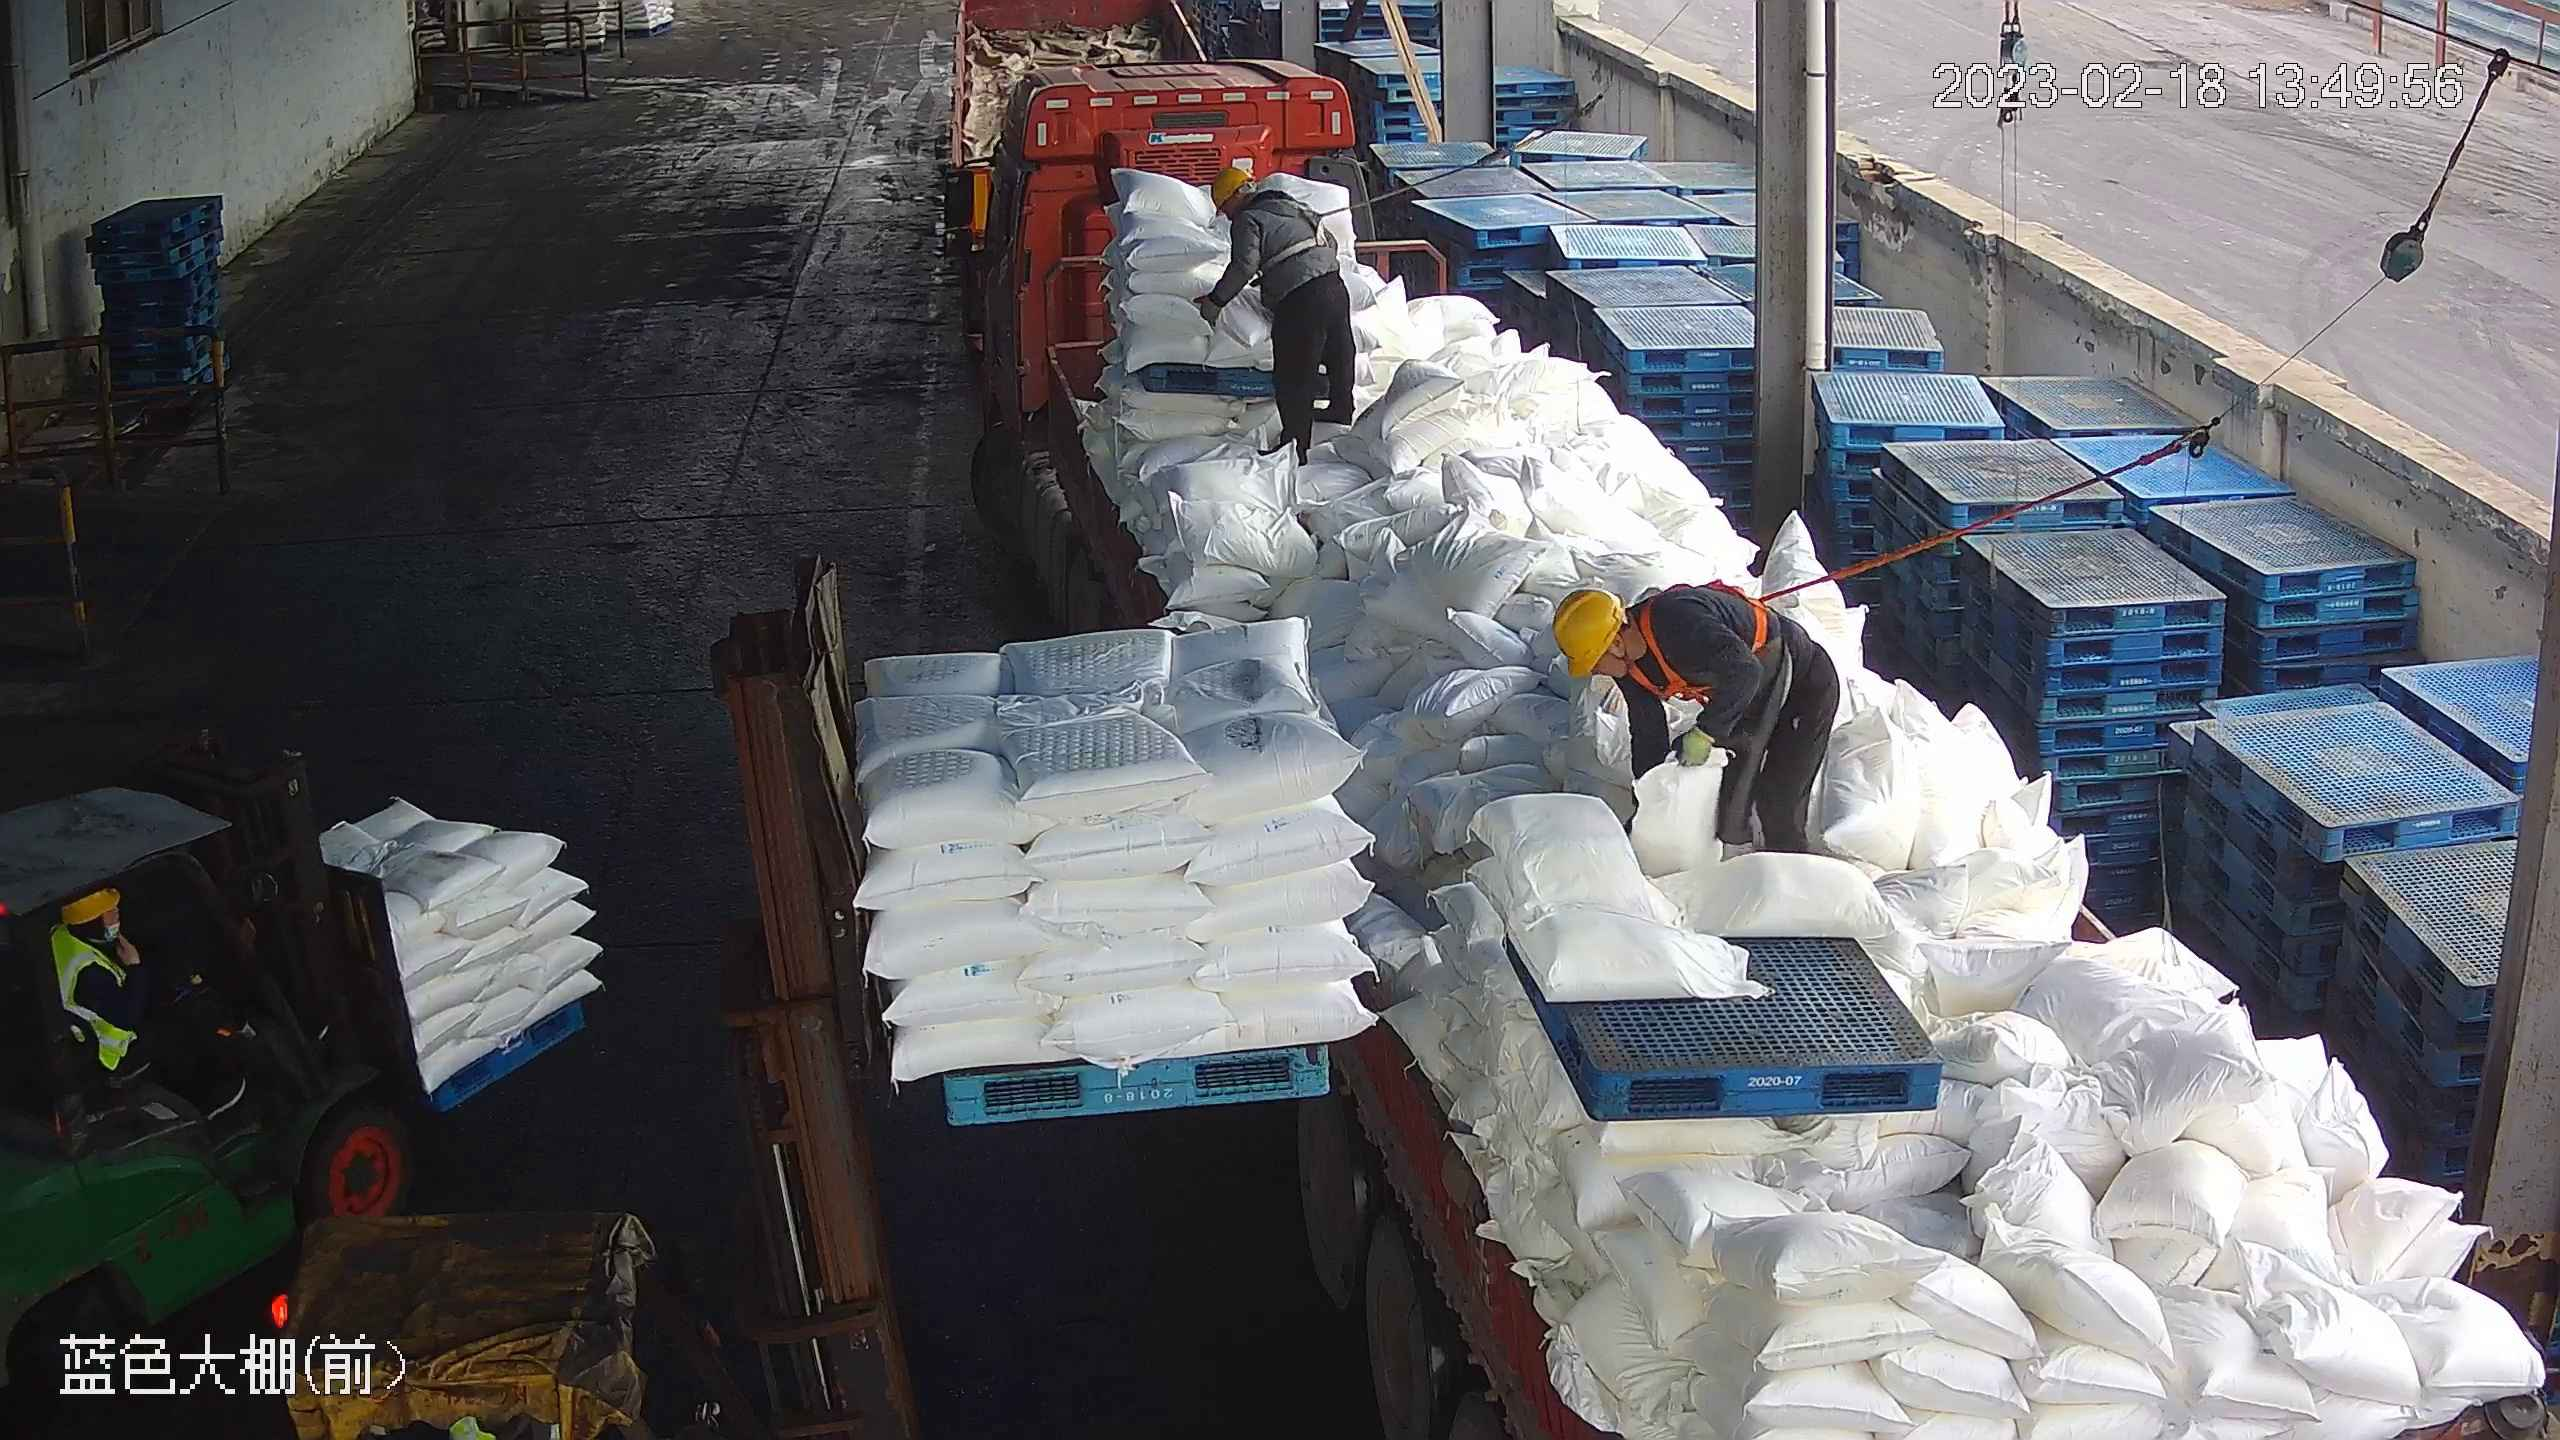belt: (1618, 570, 1785, 709), (1258, 185, 1351, 266)
head: (1543, 577, 1716, 711), (1206, 163, 1320, 256), (53, 883, 141, 993)
helmet: (1552, 587, 1623, 680), (1209, 163, 1254, 210), (66, 887, 120, 922)
people: (1549, 580, 1842, 861), (1196, 161, 1362, 460), (50, 875, 199, 1111)
truck: (914, 47, 2560, 1440)
